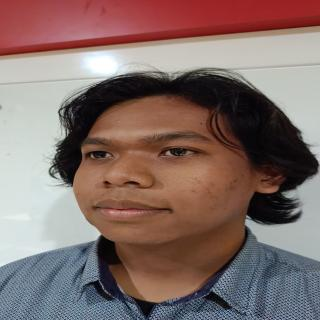Netral: (68, 89, 263, 253)
